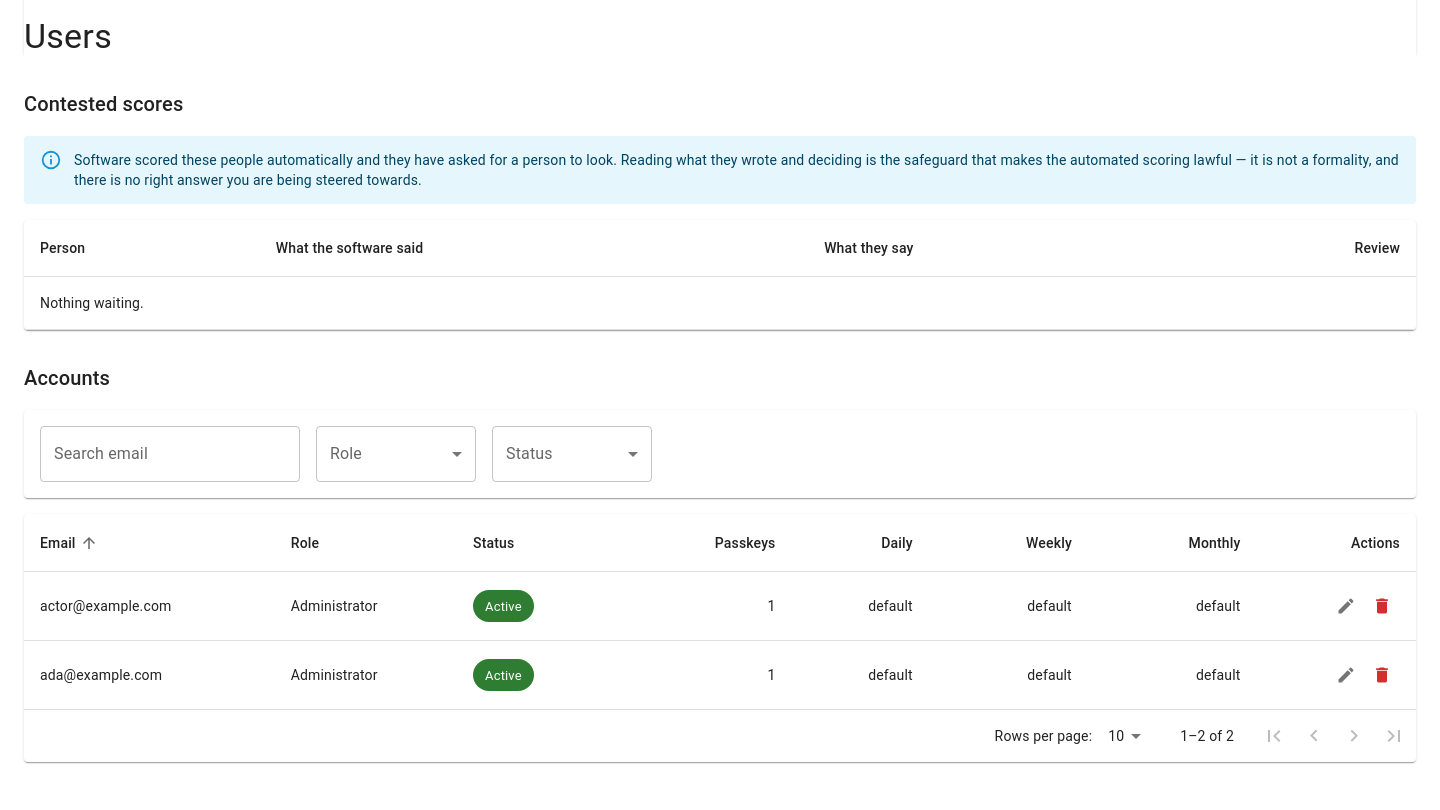
Scenario: choosing a role › asks before a demotion, and writes nothing when the question is declined
(page scrolled)
Click the button named "Edit" in the row of "ada@example.com": click(1346, 675) [1328,657,1364,693]
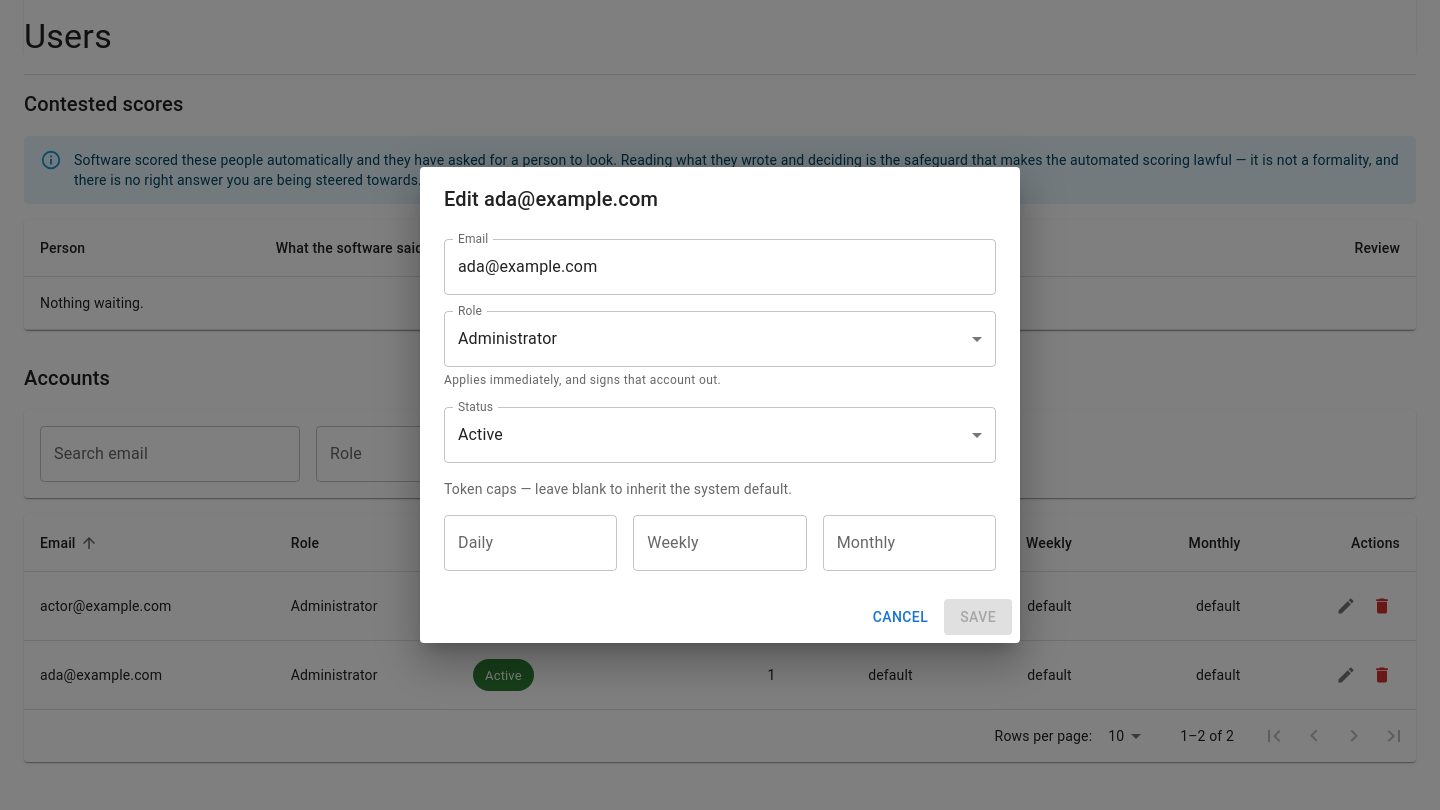
Click the dropdown labelled "Administrator": click(508, 339) [458,329,557,348]
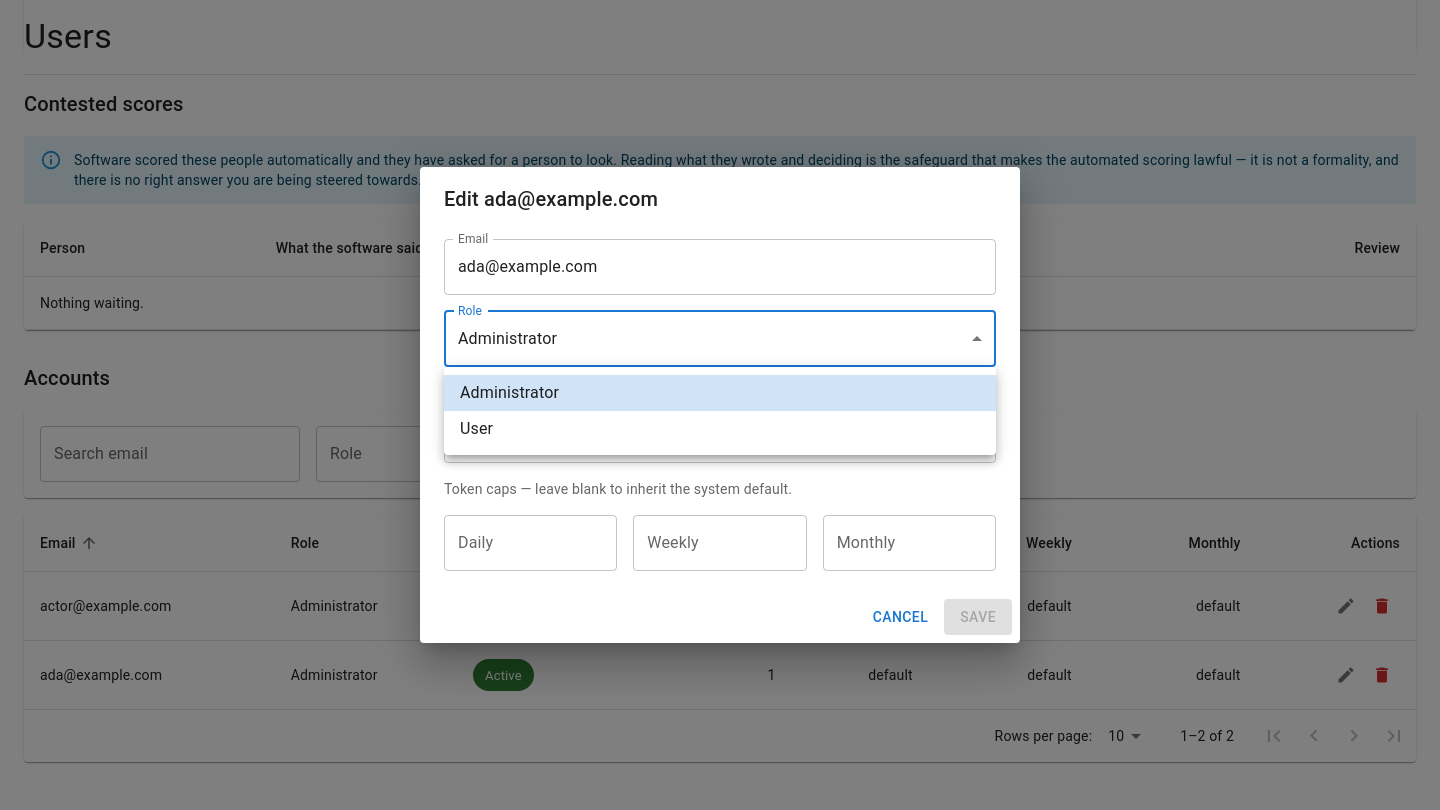
Click the option "User": click(477, 428) [460,419,493,438]
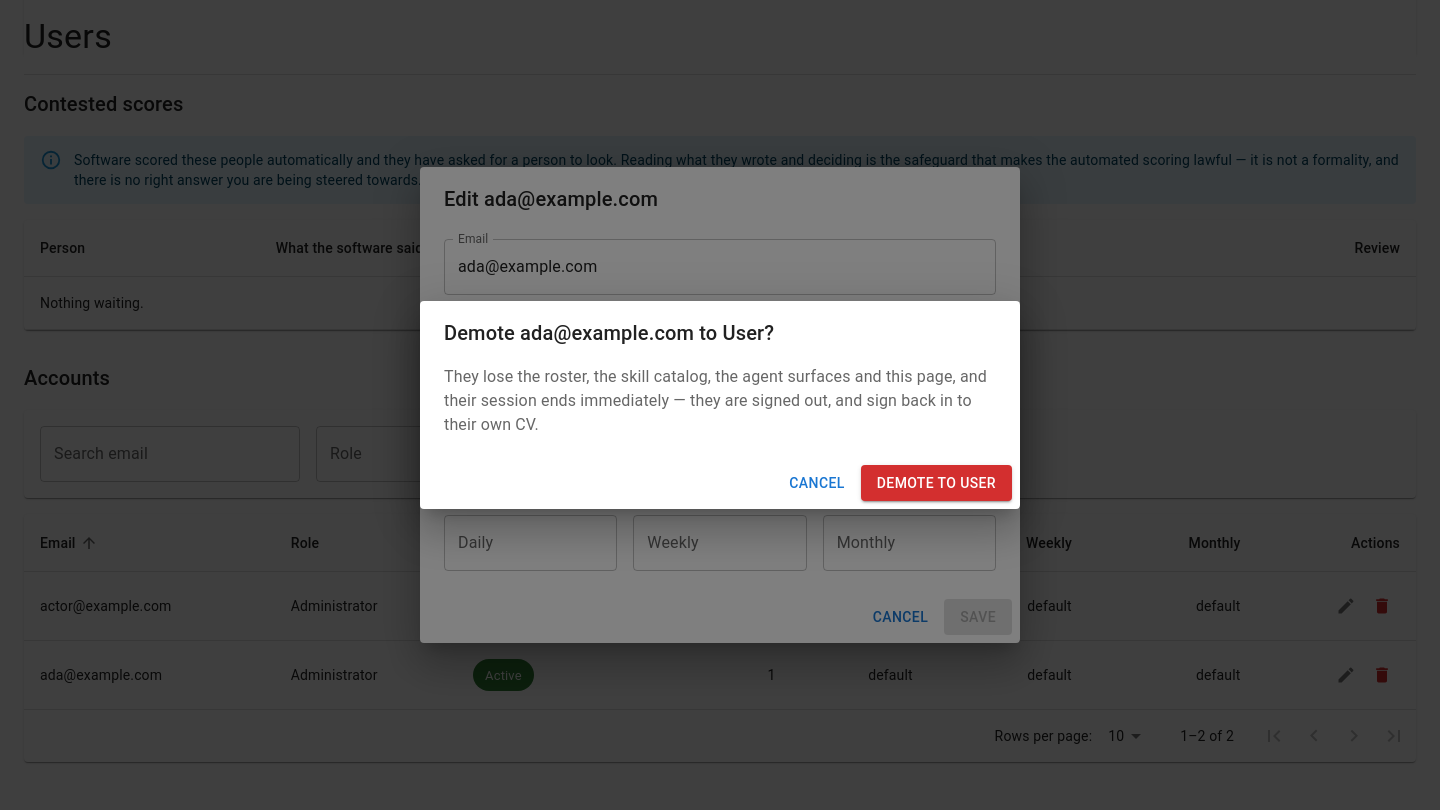
Click the button "Cancel": click(817, 483) [781,465,853,501]
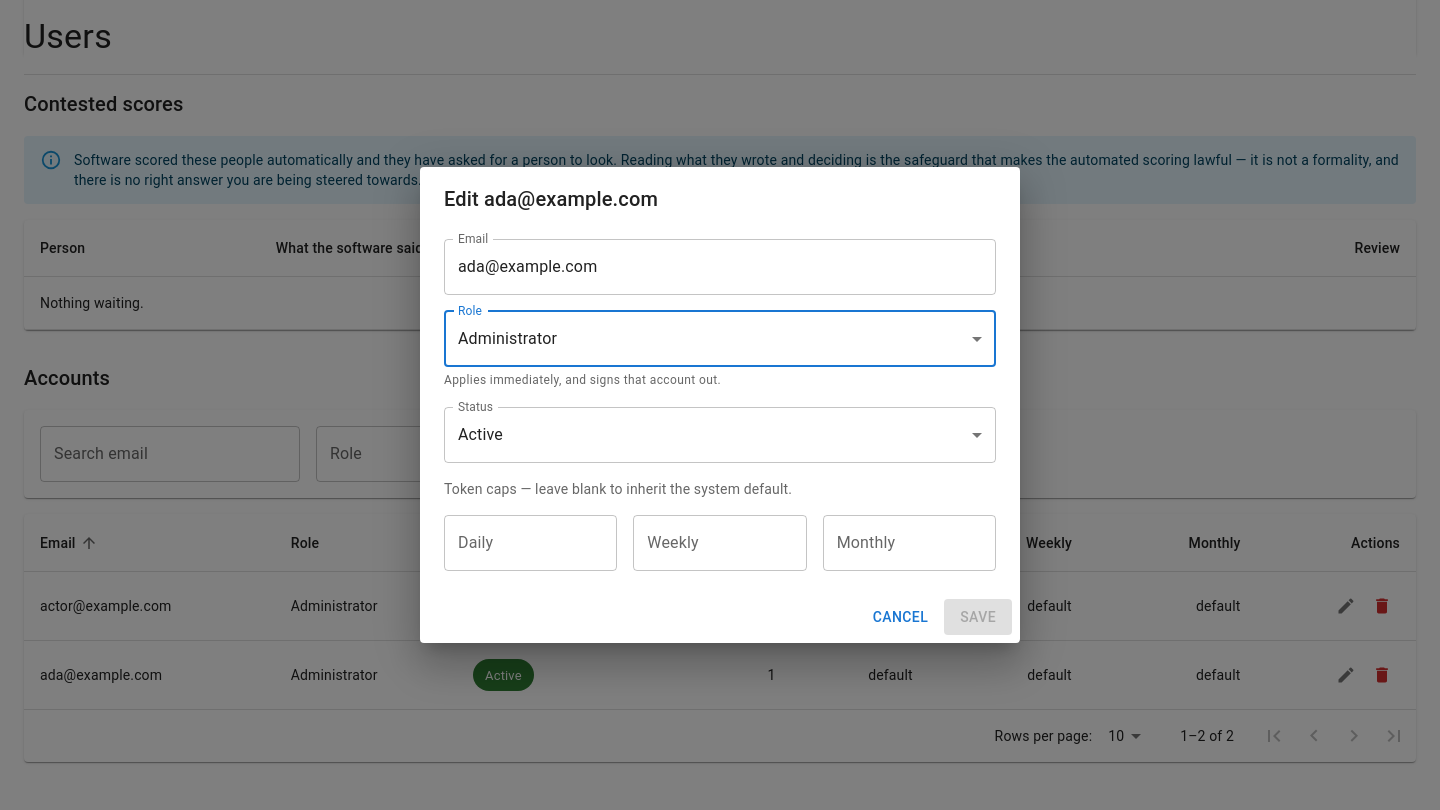
Now the element with test id "users-role-confirm" is gone
